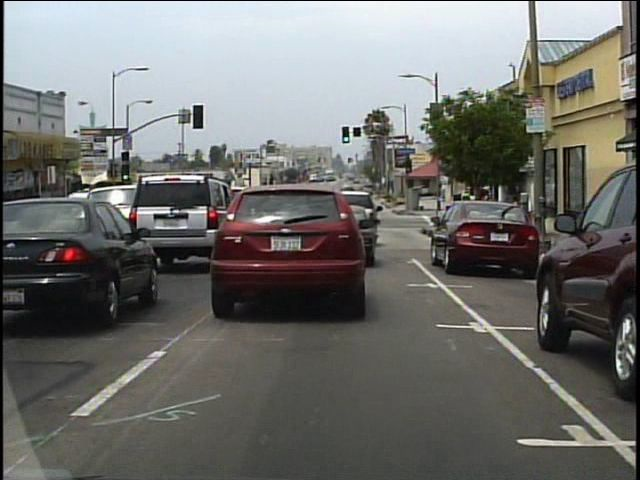person: (472, 194, 486, 238), (459, 193, 472, 238)
